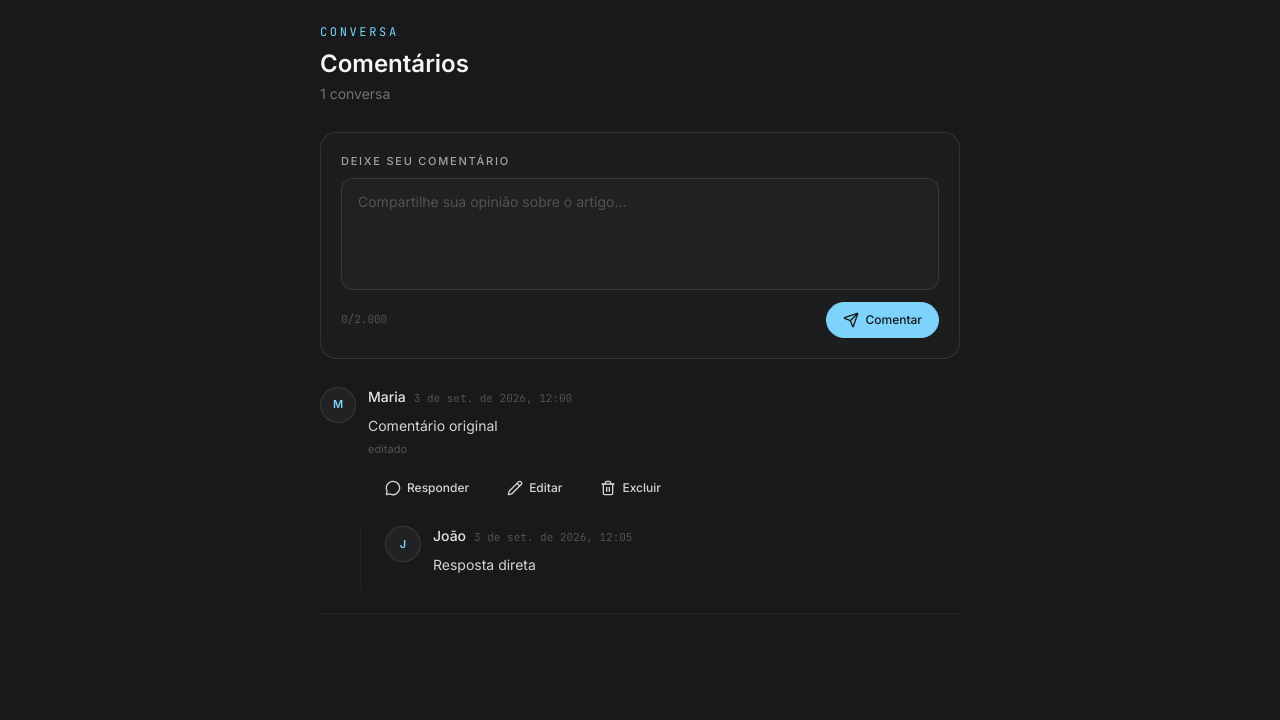
Scenario: seção de comentários › restaura a thread quando a exclusão falha
What coordinates should you click on to do the following:
click the button "Excluir"
I would click on:
 (631, 488)
Its box is 583,470 -> 678,506.
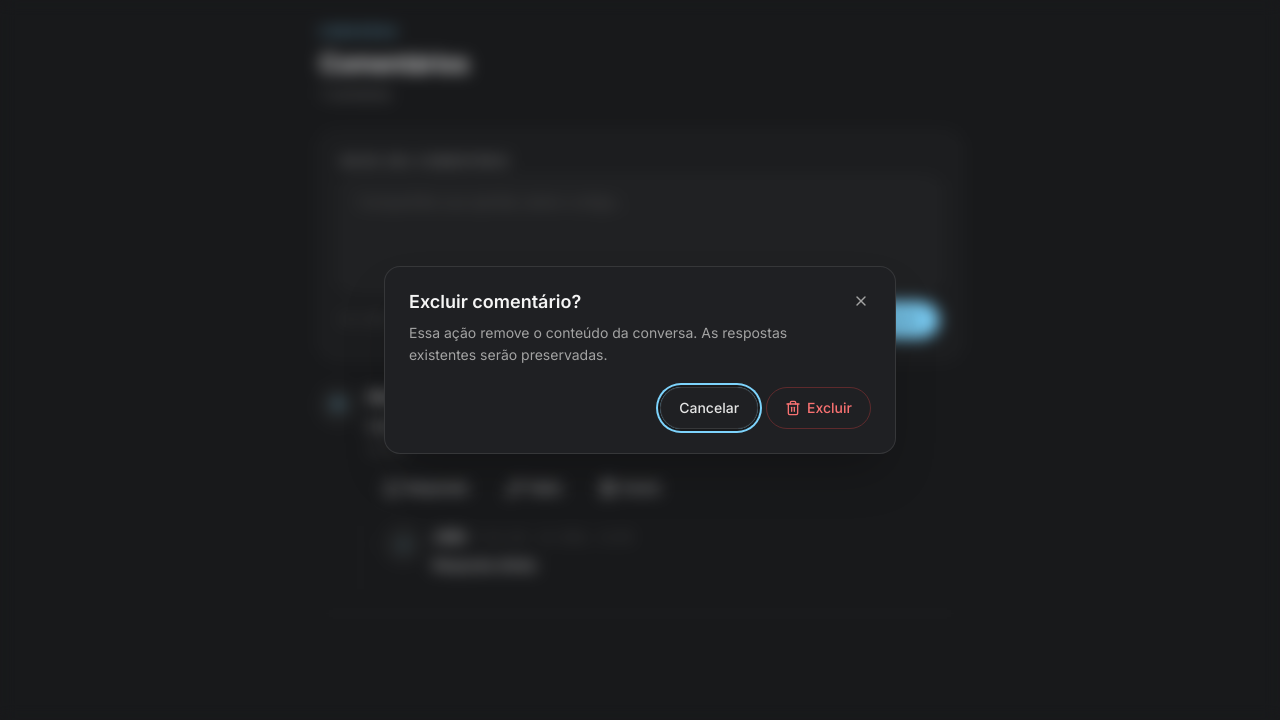
What coordinates should you click on to do the following:
click the button "Excluir"
I would click on:
 (819, 408)
Its box is 766,387 -> 871,429.
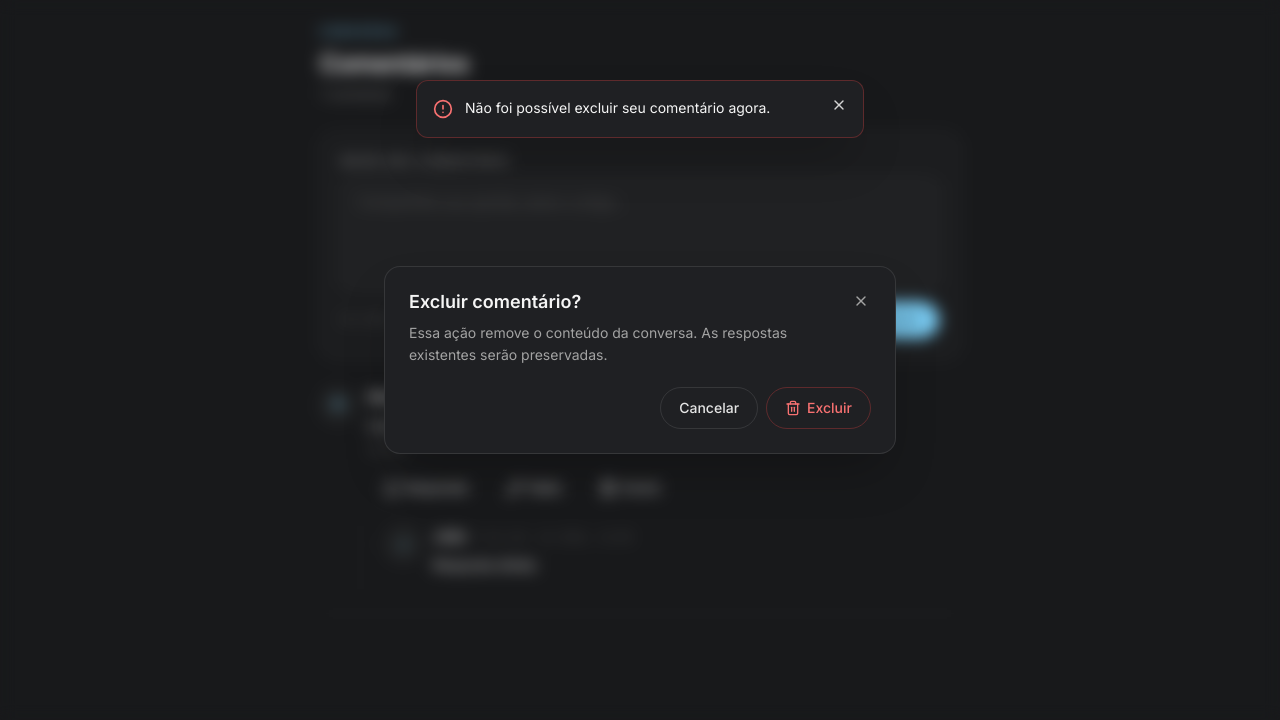
Expected: the text "Comentário original" is shown, 368,414 -> 498,437
Now the message reads "Não foi possível excluir seu comentário agora.", box 465,99 -> 770,116
